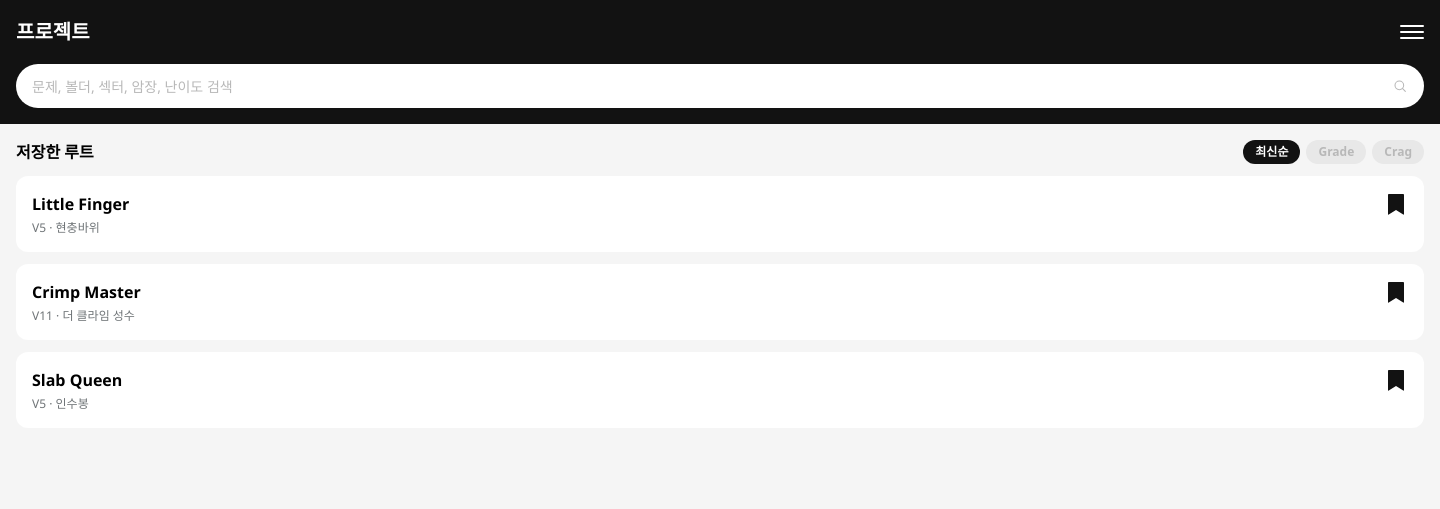
ProjectRoutesView › groups by crag name when the Crag chip is active
Click the button "Crag": (1398, 152) [1372,140,1424,164]
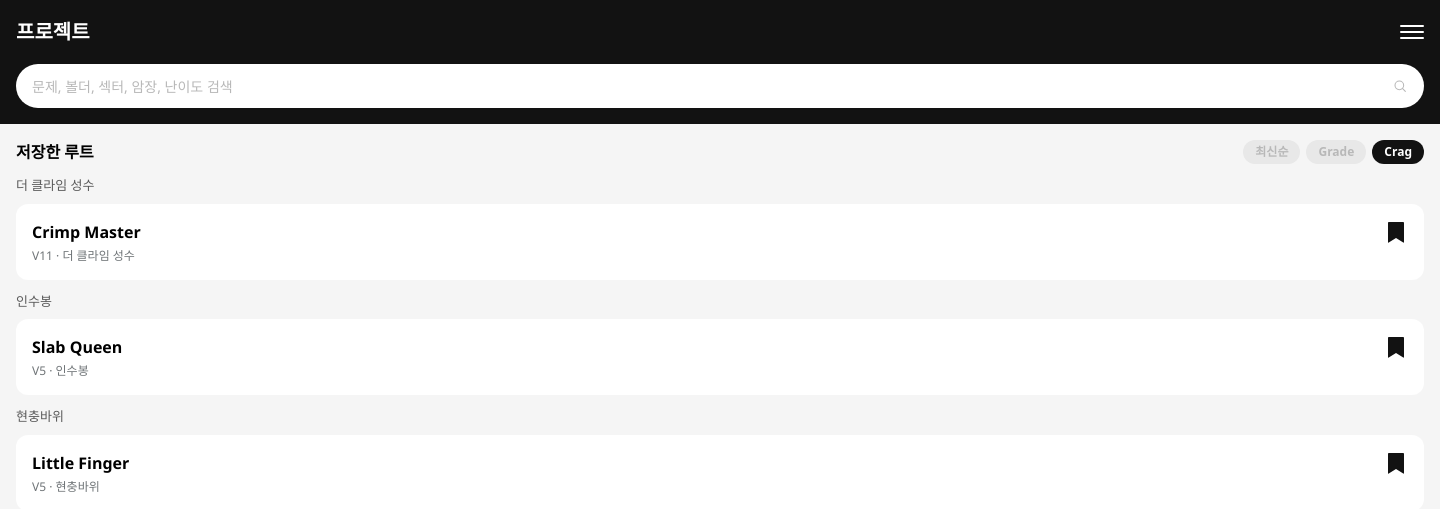
Now the text "더 클라임 성수" is shown, box [16,176,94,194]
Now the text "현충바위" is shown, box [16,407,64,425]
Now the text "인수봉" is shown, box [16,292,52,310]
